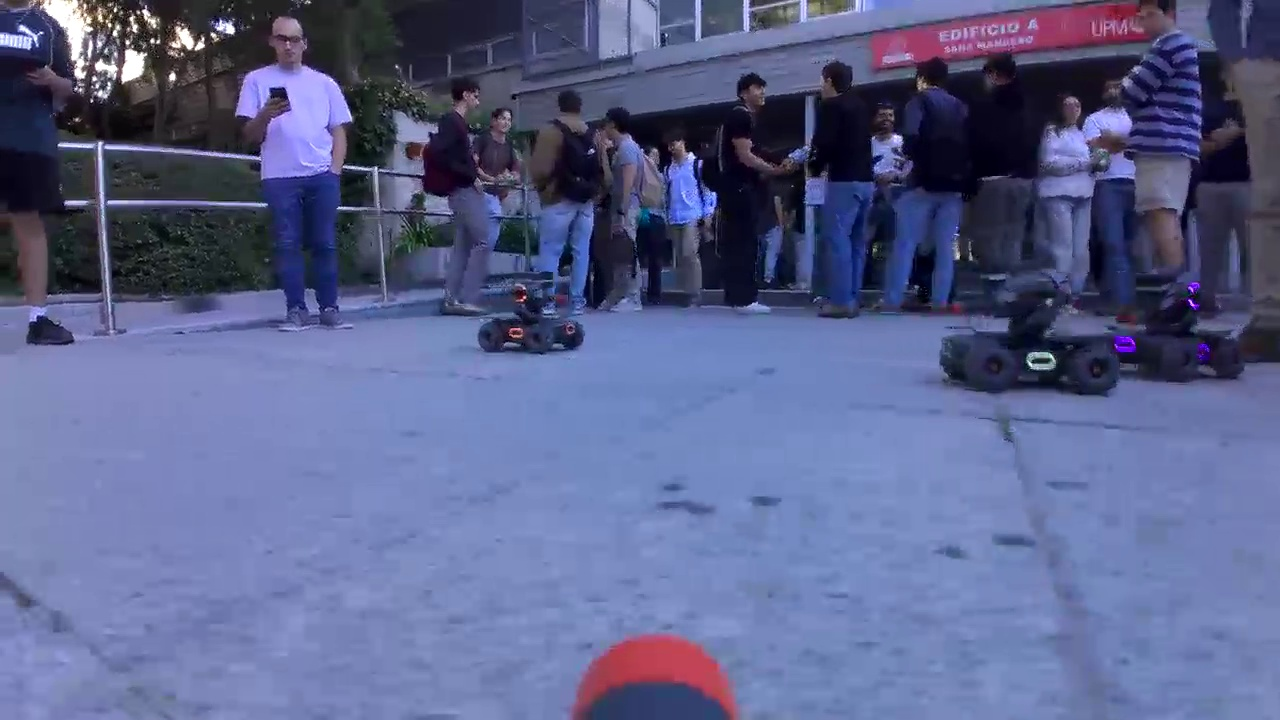robot: (941, 267, 1122, 396), (1100, 271, 1246, 384), (478, 277, 587, 354)
